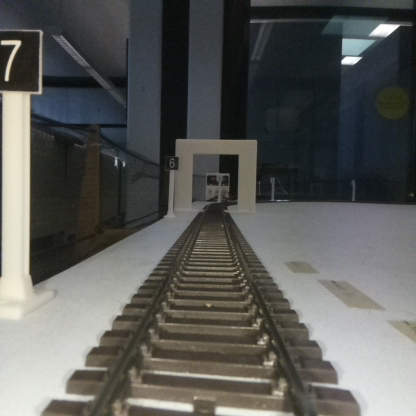black-info-6: (165, 157, 178, 216)
black-info-7: (0, 32, 39, 315)
